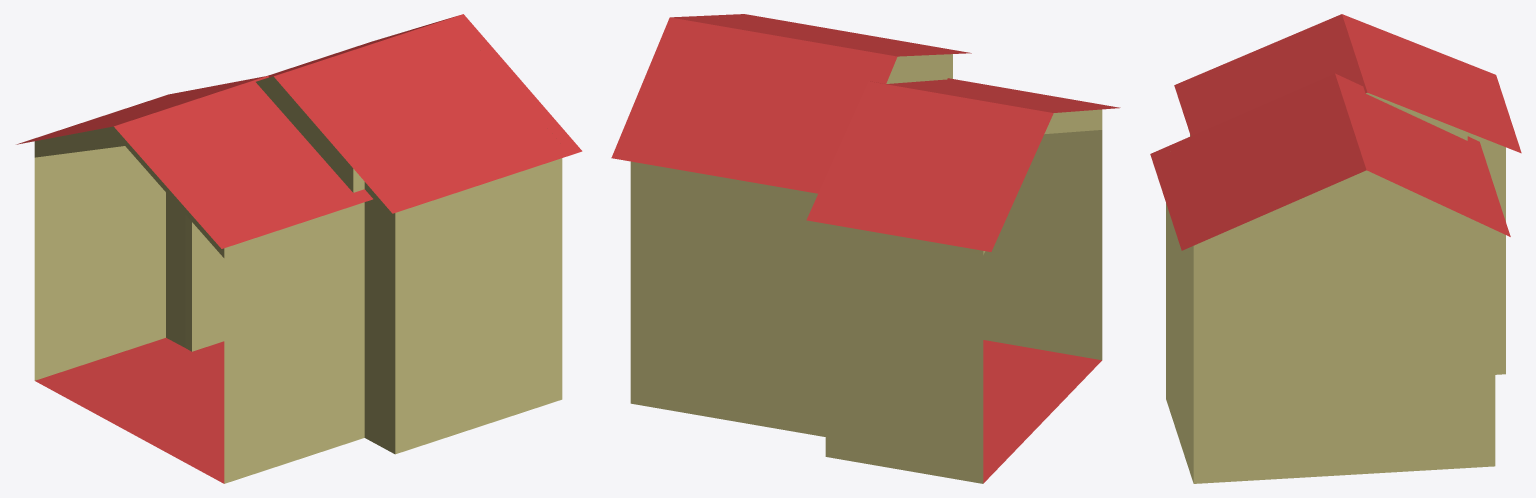
3 renders of one model, left to right at view 1: azimuth 30°, elevation 25°; view 2: azimuth 150°, elevation 25°; view 3: azimuth 270°, elevation 25°, orthographic. The views are drawn at different scales.
Bounding box in the file's own units: 16.13 × 13.33 × 12.25.
